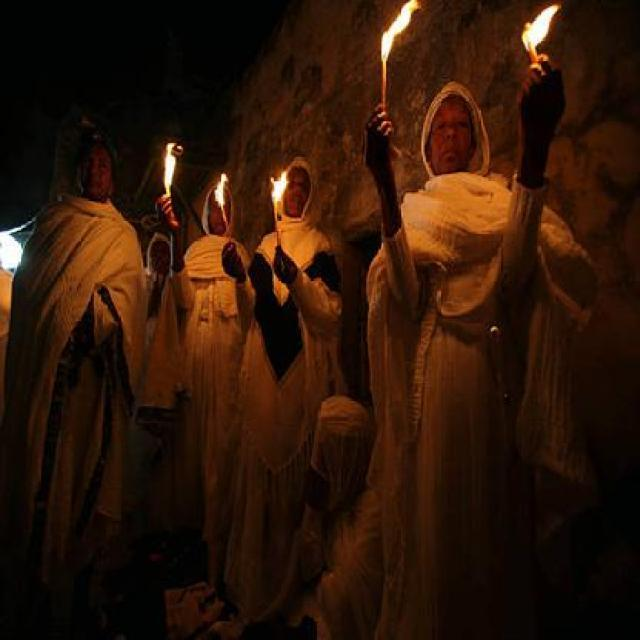Fire: (383, 2, 419, 58), (522, 2, 558, 56), (268, 168, 291, 210), (164, 137, 179, 200), (216, 166, 226, 210)
